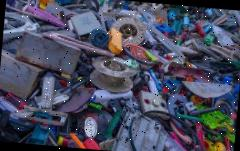electronic: (0, 0, 240, 151), (13, 26, 88, 80), (85, 52, 151, 102), (55, 7, 123, 52), (106, 12, 164, 64), (140, 22, 193, 66), (133, 87, 186, 126)
